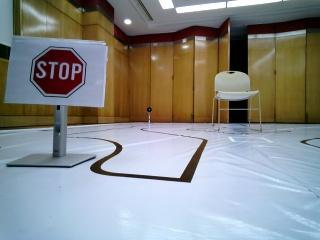stop: (28, 46, 92, 98)
